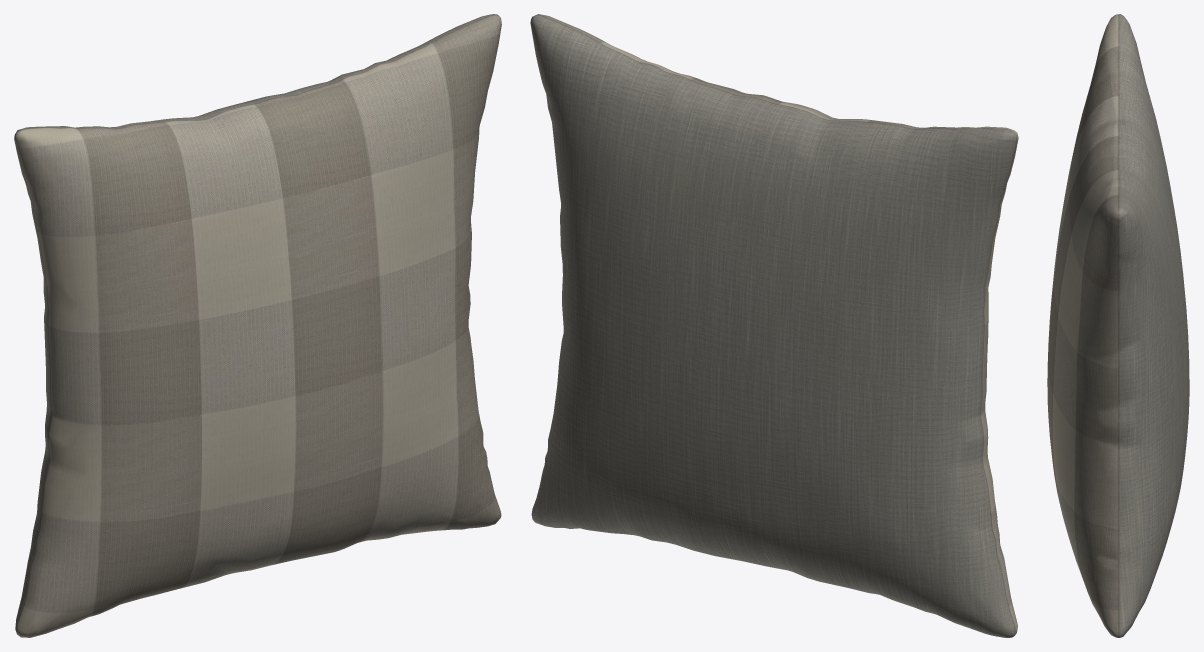
File: candidate.glb
3 renders of one model, left to right at view 1: azimuth 30°, elevation 25°; view 2: azimuth 150°, elevation 25°; view 3: azimuth 270°, elevation 25°, orthographic. The views are drawn at different scales.
Parts seen in each view (by area): view 1: RootNode; view 2: RootNode; view 3: RootNode.
Boxes of the visible parts, x1=… form: RootNode: x1=14, y1=14, x2=501, y2=637; RootNode: x1=530, y1=14, x2=1018, y2=637; RootNode: x1=1047, y1=14, x2=1189, y2=637.
Size of the model in its own units: 0.4 by 0.4 by 0.12.
1 material, 1 textured.
